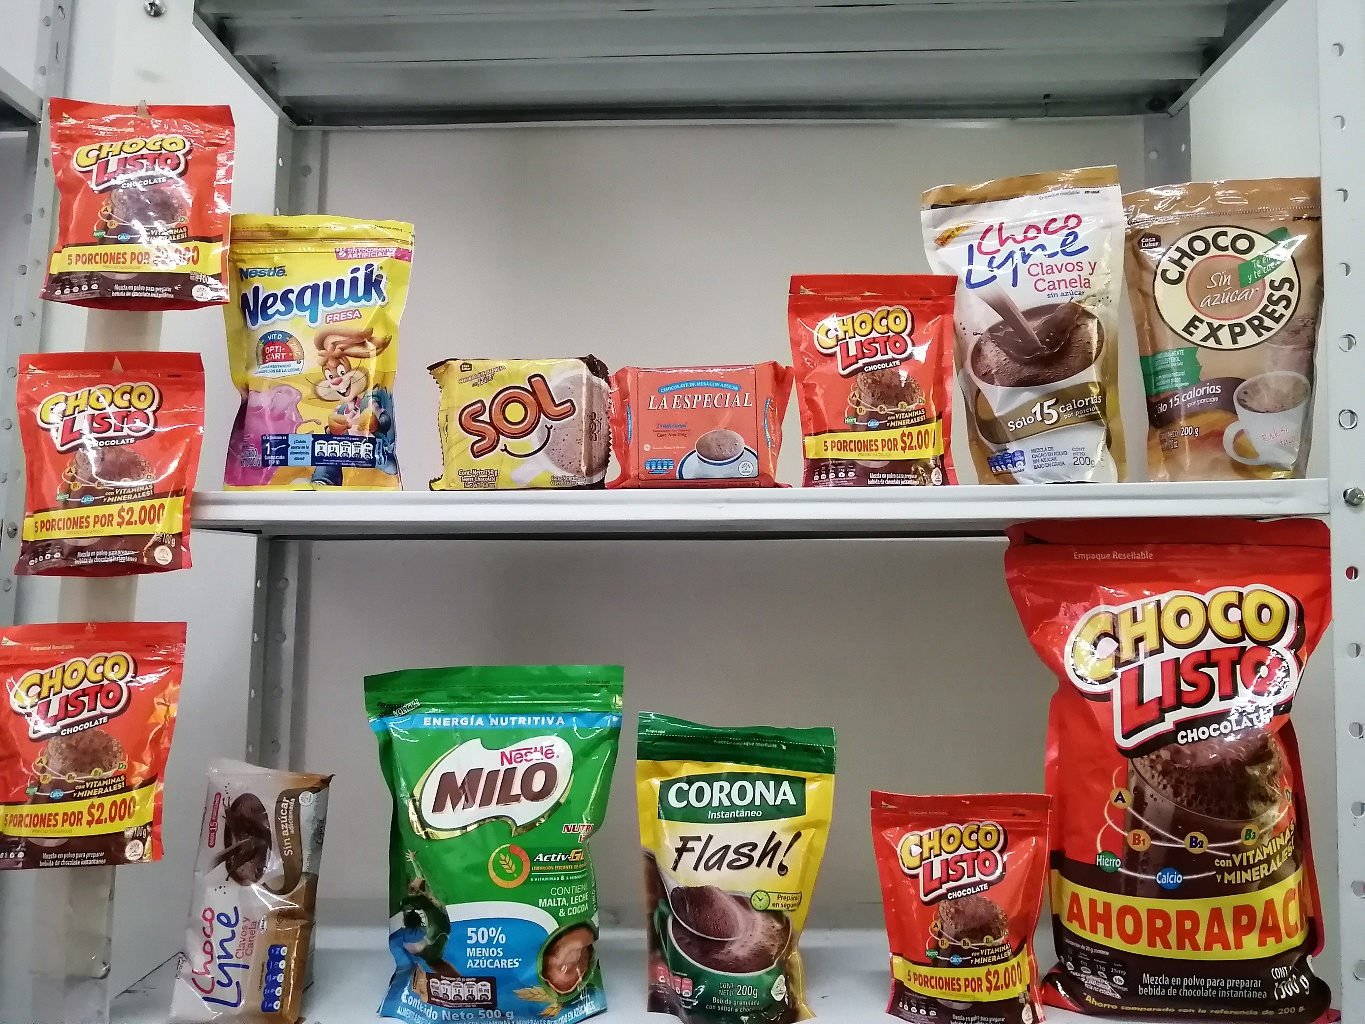COL0170103DYP1,500: (1000, 531, 1340, 1020)
COL0170205DYP50000: (359, 658, 629, 1019)
COL0170305DYP20000: (216, 203, 418, 493)
